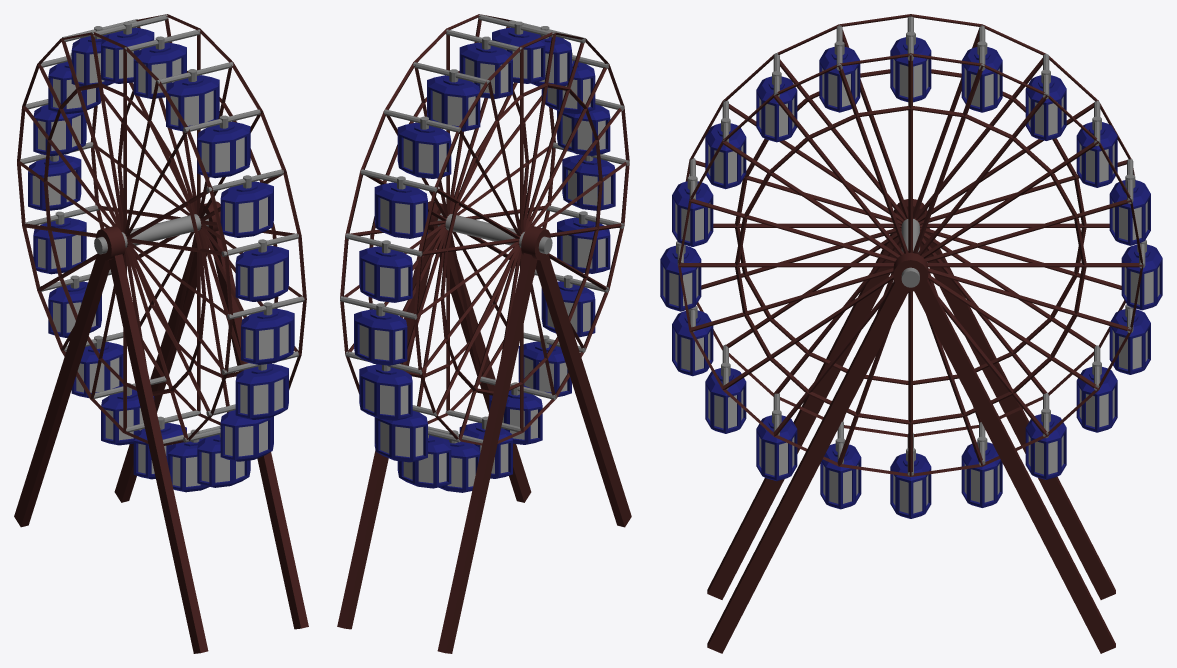
File: Ferris_wheel.fbx
3 renders of one model, left to right at view 1: azimuth 30°, elevation 25°; view 2: azimuth 150°, elevation 25°; view 3: azimuth 270°, elevation 25°, orthographic. The views are drawn at different scales.
Visible parts, largest first — view 1: Sepet, Circle, Cube, Cube.001, Cylinder.013, Cylinder, Cylinder.001; view 2: Sepet, Circle, Cube.001, Cube, Cylinder.013, Cylinder, Cylinder.001; view 3: Circle, Sepet, Cube.001, Cube, Cylinder.013, Cylinder.001.
Part boxes in pixels (left/top/right/bottom): Sepet: left=20, top=14, right=304, bottom=492; Circle: left=17, top=14, right=306, bottom=445; Cube: left=108, top=230, right=308, bottom=653; Cube.001: left=14, top=239, right=209, bottom=527; Cylinder.013: left=126, top=410, right=200, bottom=479; Cylinder: left=94, top=213, right=208, bottom=254; Cylinder.001: left=96, top=201, right=220, bottom=260; Sepet: left=340, top=14, right=629, bottom=492; Circle: left=340, top=14, right=629, bottom=445; Cube.001: left=337, top=229, right=537, bottom=653; Cube: left=435, top=238, right=631, bottom=527; Cylinder.013: left=445, top=410, right=520, bottom=478; Cylinder: left=437, top=213, right=552, bottom=254; Cylinder.001: left=428, top=201, right=550, bottom=260; Circle: left=678, top=14, right=1143, bottom=476; Sepet: left=660, top=15, right=1162, bottom=509; Cube.001: left=914, top=228, right=1115, bottom=653; Cube: left=707, top=228, right=908, bottom=653; Cylinder.013: left=890, top=433, right=931, bottom=518; Cylinder.001: left=893, top=199, right=928, bottom=291.
Size of what is drawn, in the model's own units: 276 by 1120 by 864.
